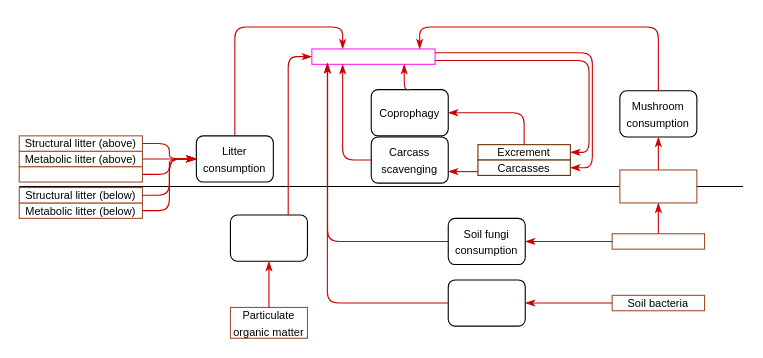
The diagram is 763 pixels wide and 358 high, and some of its shapes have lost their labels. Each missing label, with the box of its shape:
Animal biomass: (311, 48, 435, 64)
Fungal fruiting bodies: (619, 169, 697, 203)
Soil bacteria consumption: (447, 279, 525, 326)
Soil fungi: (611, 233, 705, 249)
Soil organic matter consumption: (229, 214, 307, 261)
Woody litter: (18, 166, 142, 182)
